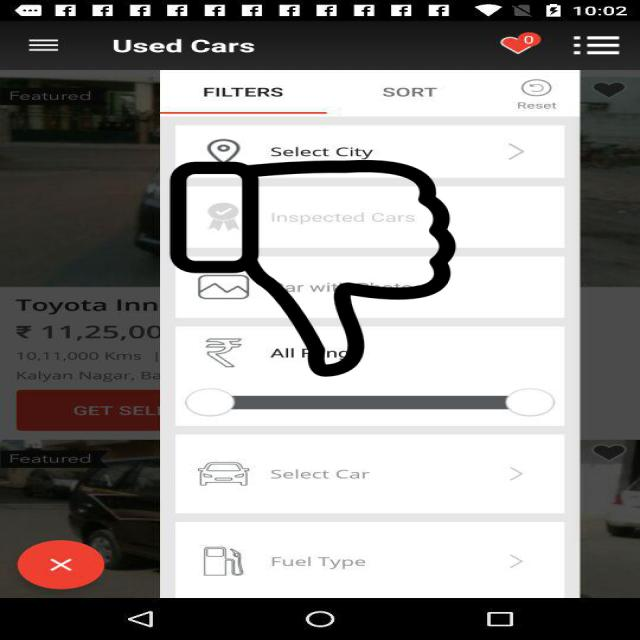obstruction: (166, 160, 460, 377)
